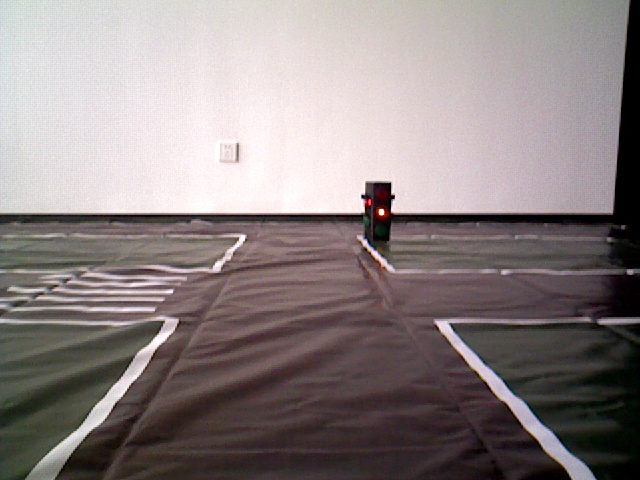yellow: (364, 182, 392, 241)
